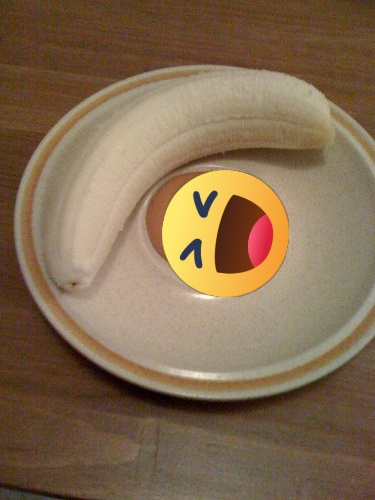haha: (162, 170, 289, 297)
